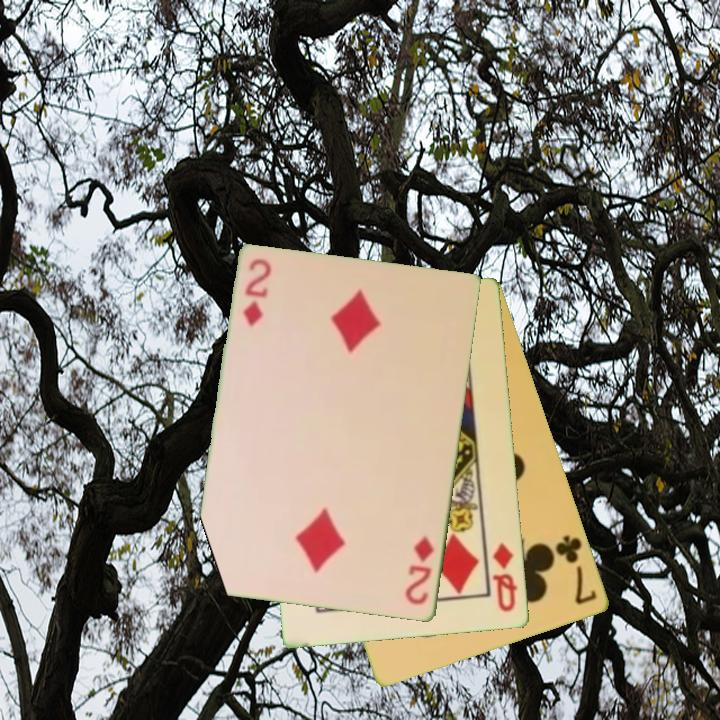2d: (402, 533, 437, 608), (240, 255, 272, 329)
7c: (552, 531, 600, 608)
Qd: (489, 540, 521, 615)
